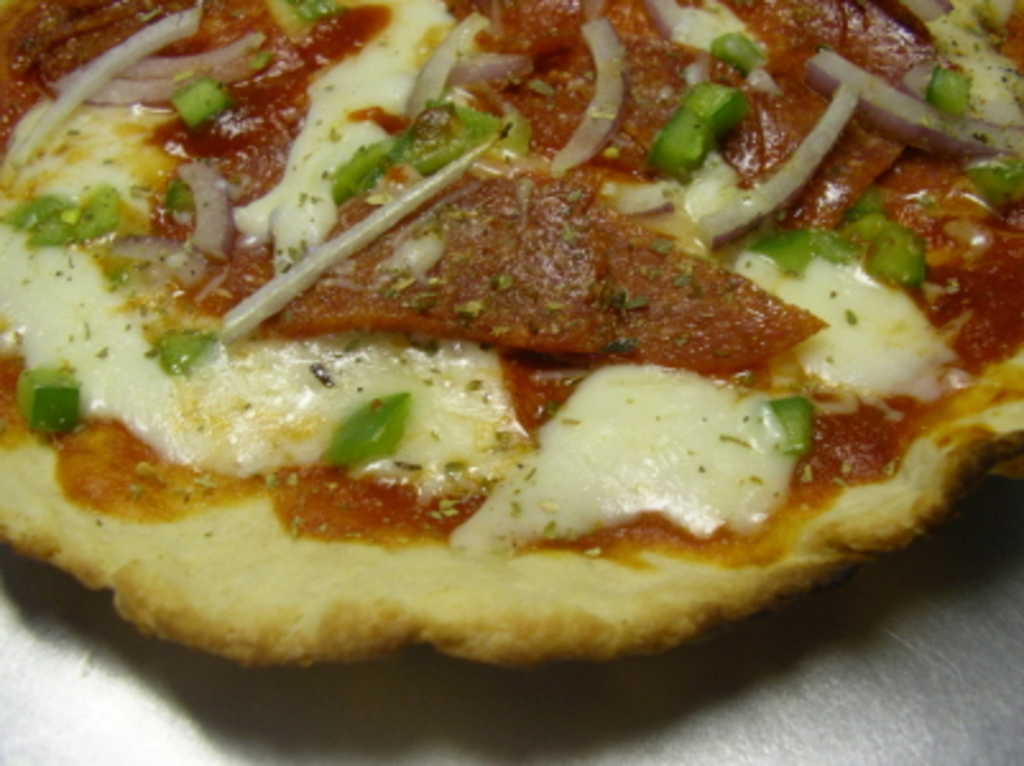Pizza: (0, 0, 1024, 689)
